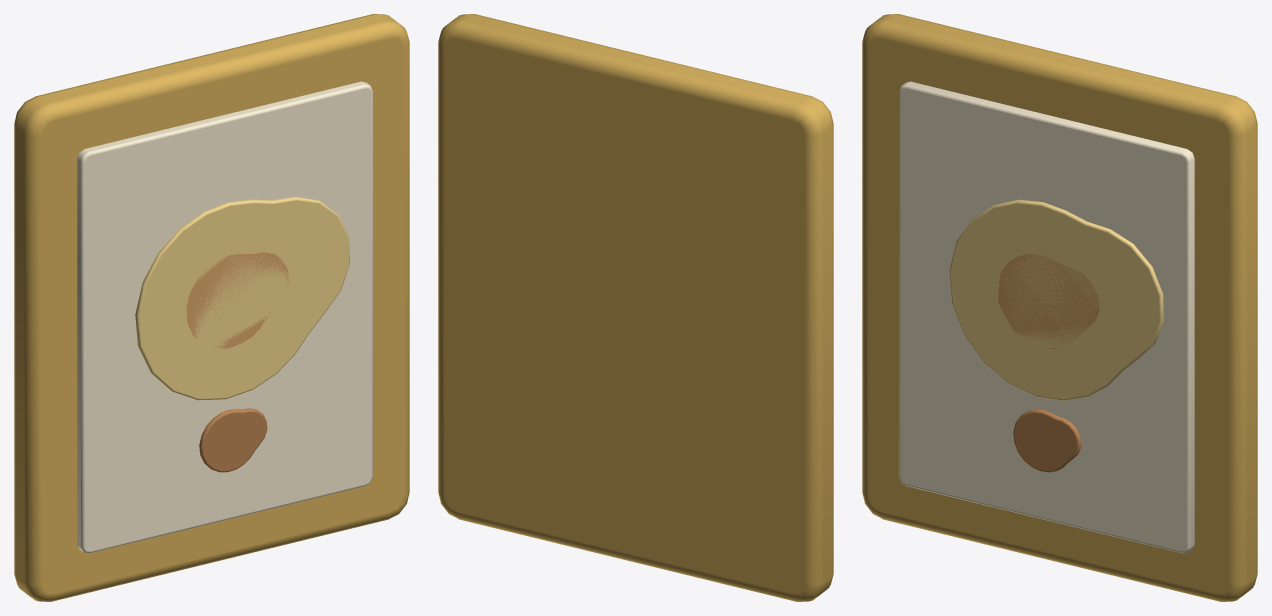
The model's file is framed_painting_ring.glb.
3 renders of one model, left to right at view 1: azimuth 30°, elevation 25°; view 2: azimuth 150°, elevation 25°; view 3: azimuth 330°, elevation 25°, orthographic.
Visible parts, largest first — view 1: framed_painting_ring_mesh; view 2: framed_painting_ring_mesh; view 3: framed_painting_ring_mesh.
Part boxes in pixels (x1,y1,x2,y2): framed_painting_ring_mesh: (14,14,409,601); framed_painting_ring_mesh: (438,14,833,601); framed_painting_ring_mesh: (862,14,1257,601).
Size of the model in its own units: 0.5 by 0.62 by 0.067.
